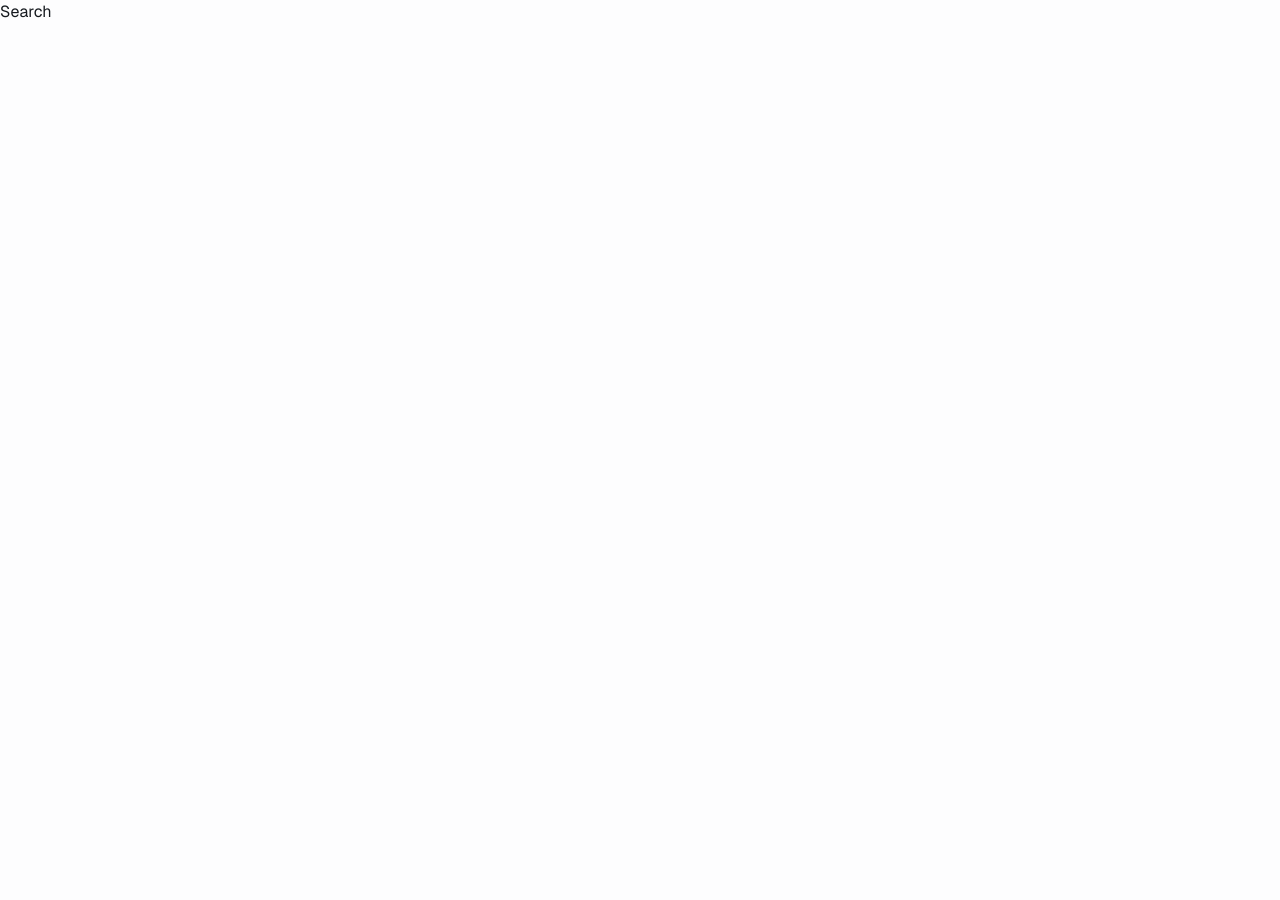
it: searching and running › navigates with the arrow keys and runs the selection with Enter
Press k
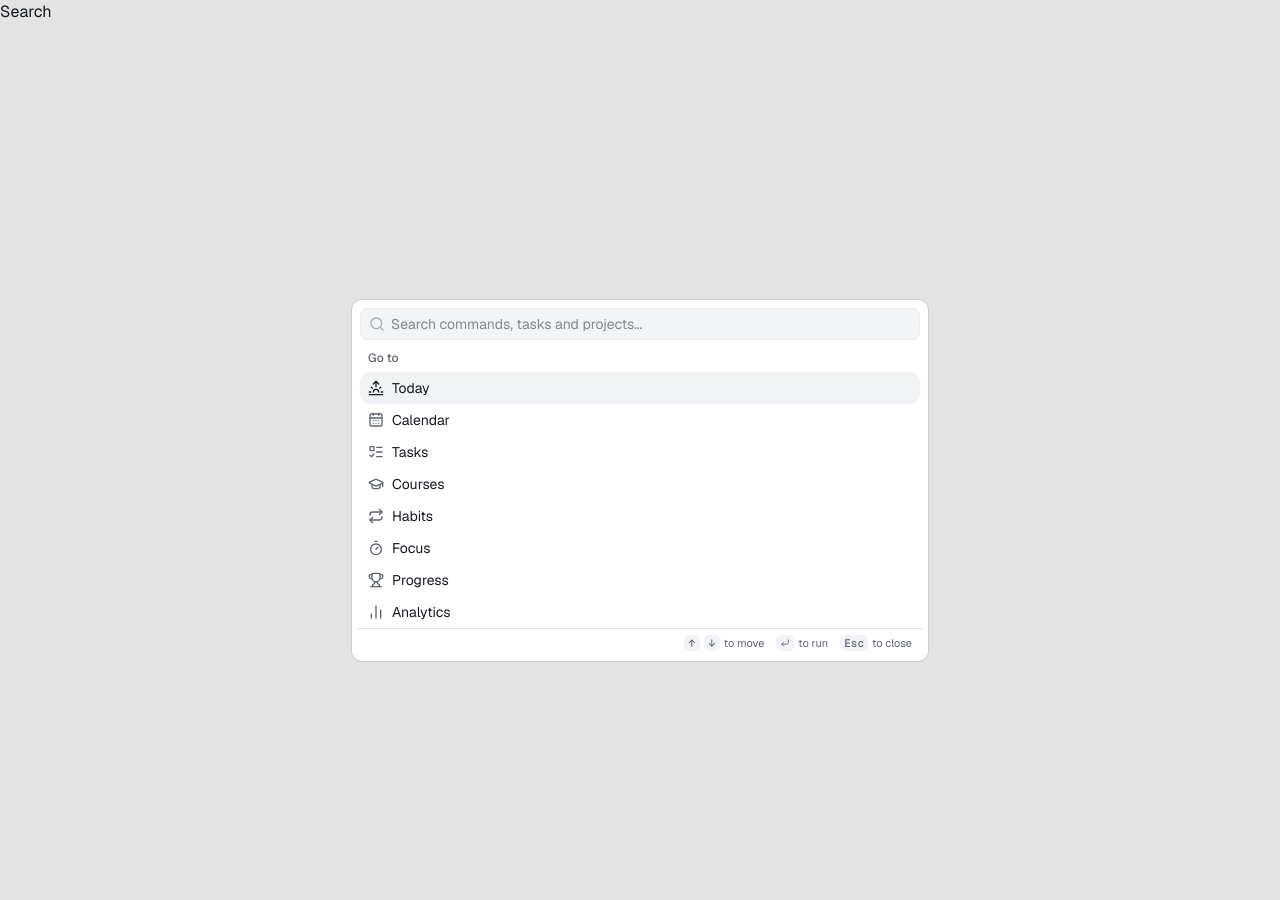
Type "calendar" into the dropdown at (652, 324), box [385,314,919,334]
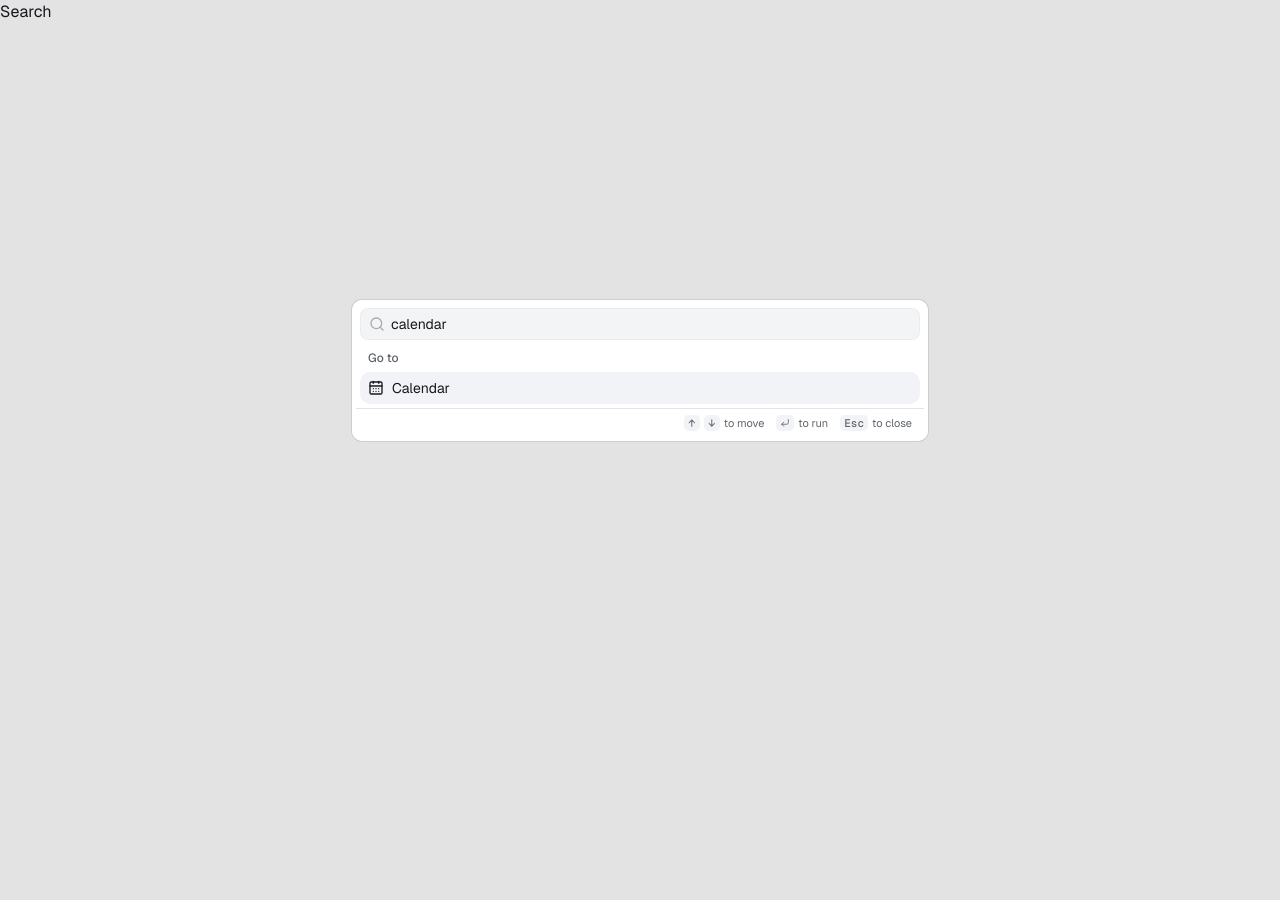
Press ArrowDown in the dropdown, box [385,314,919,334]
Press ArrowUp in the dropdown, box [385,314,919,334]
Press Enter in the dropdown, box [385,314,919,334]
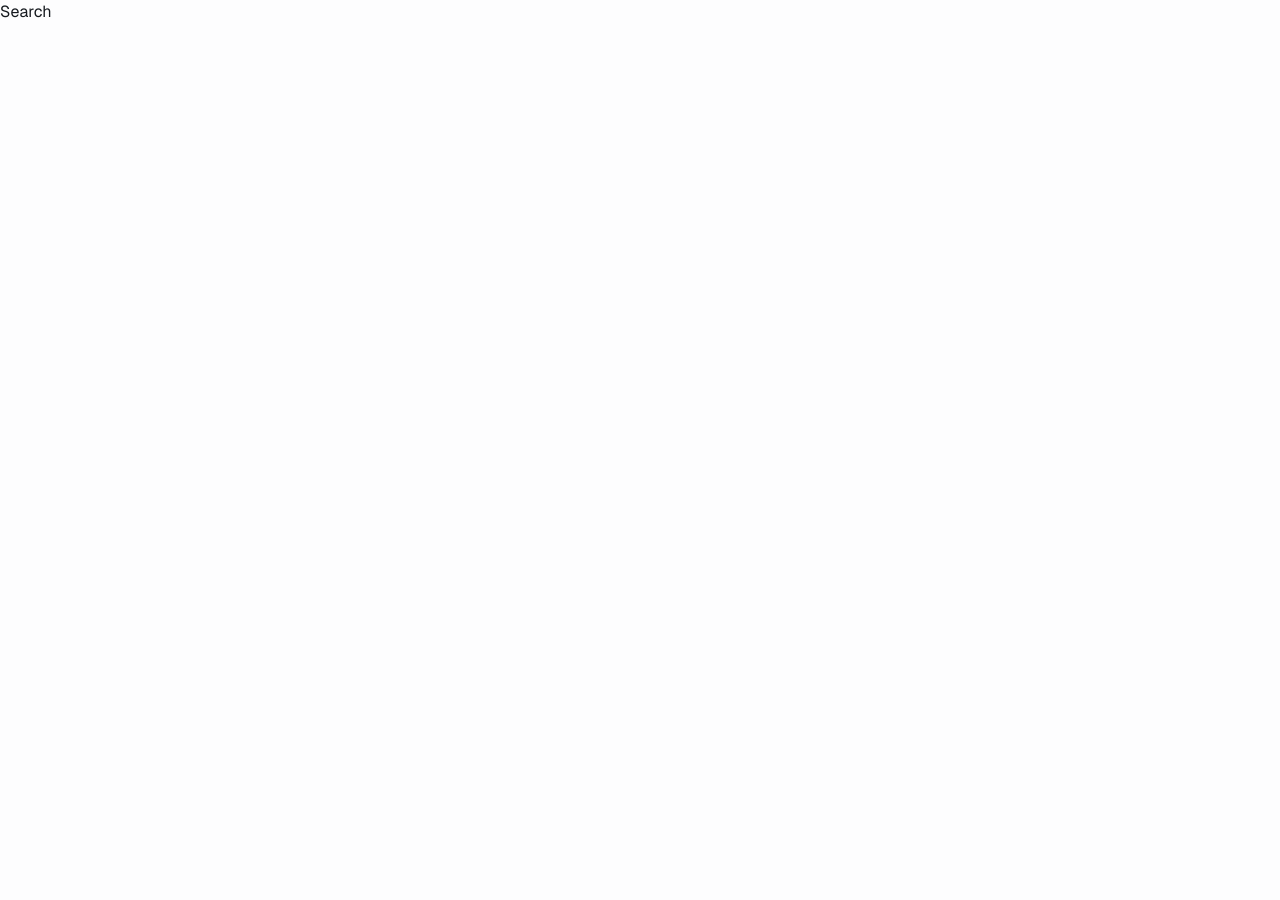
Expected: the dialog is gone
